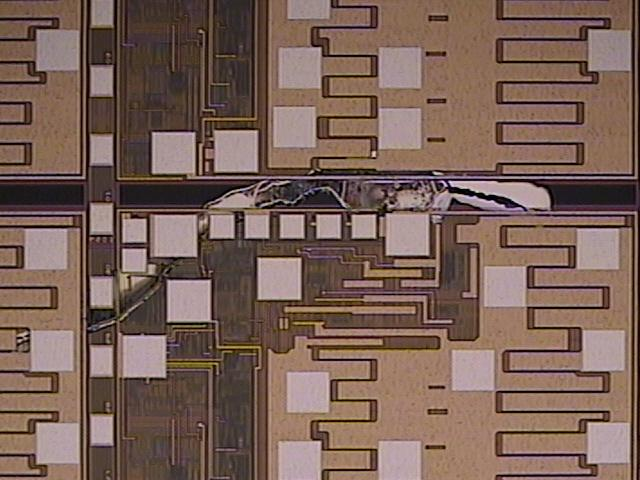BLOCK ETCH: (4, 147, 561, 353)
